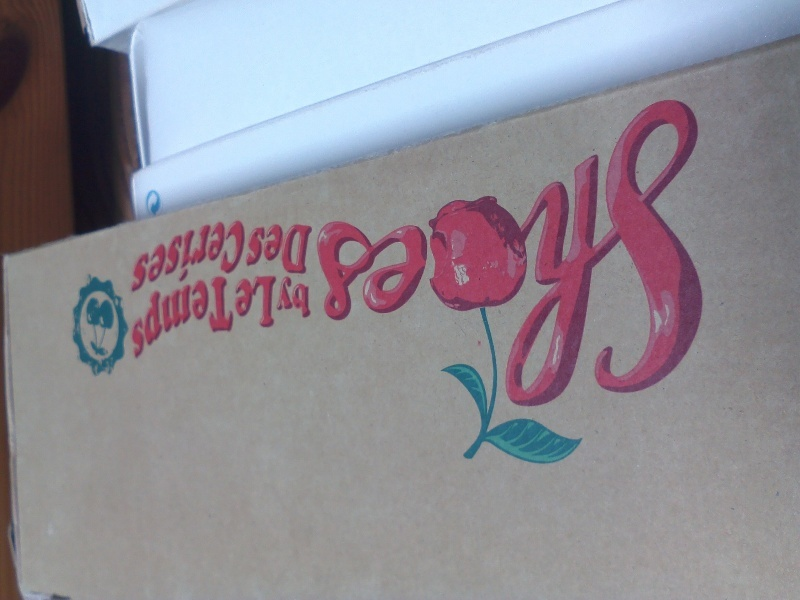text: (321, 90, 336, 420), (337, 90, 352, 420), (353, 90, 368, 420), (369, 90, 384, 420), (385, 90, 400, 420), (401, 90, 416, 420), (417, 90, 432, 420), (433, 90, 448, 420), (449, 90, 464, 420), (465, 90, 480, 420), (481, 90, 496, 420), (497, 90, 512, 420), (513, 90, 528, 420), (529, 90, 544, 420), (545, 90, 560, 420), (561, 90, 576, 420), (577, 90, 592, 420), (593, 90, 608, 420), (609, 90, 624, 420), (625, 90, 640, 420), (641, 90, 656, 420), (657, 90, 672, 420), (673, 90, 688, 420), (689, 90, 704, 420), (705, 90, 712, 420), (315, 90, 320, 420), (129, 268, 144, 366), (145, 268, 160, 366), (161, 268, 176, 366), (177, 268, 192, 366), (193, 268, 208, 366), (209, 268, 224, 366), (145, 213, 160, 297), (161, 213, 176, 297), (177, 213, 192, 297), (193, 213, 208, 297), (209, 213, 224, 297), (225, 213, 240, 297), (225, 268, 236, 366), (241, 273, 256, 331), (257, 273, 272, 331), (257, 224, 272, 276), (273, 224, 288, 276), (289, 224, 304, 276), (289, 272, 304, 321), (241, 213, 249, 297), (231, 273, 240, 331), (138, 213, 144, 297), (305, 272, 314, 321), (305, 224, 313, 276), (273, 273, 280, 331), (280, 272, 288, 321), (252, 224, 256, 276), (127, 268, 128, 366)
